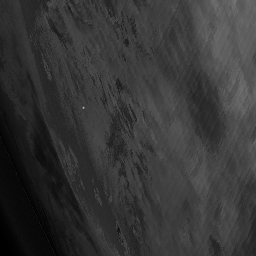Target: (81, 104, 86, 110)
